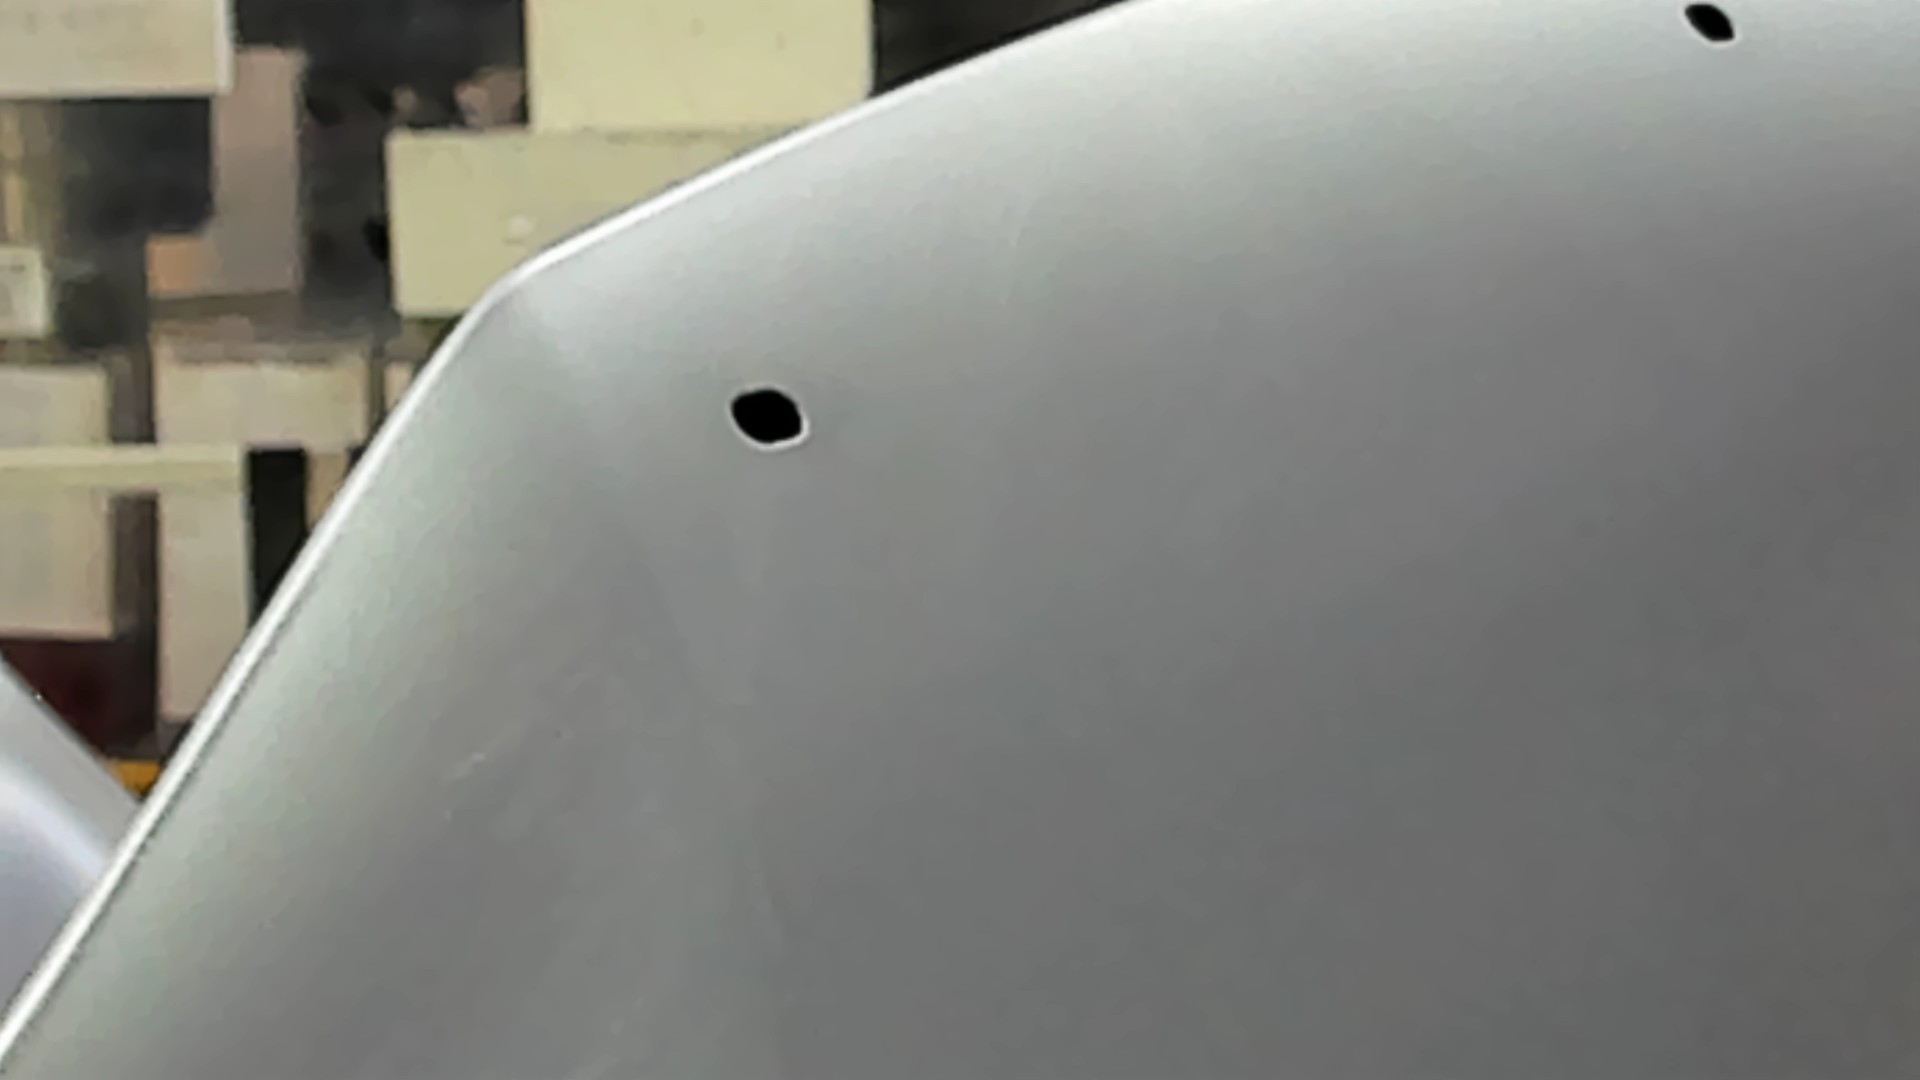amorfo: (725, 377, 814, 458), (1677, 1, 1743, 51)
